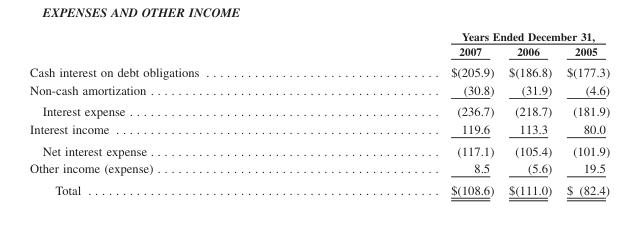table: (29, 29, 609, 196)
table column: (29, 29, 324, 196), (324, 29, 500, 196), (500, 29, 558, 196), (558, 29, 609, 196)
table column header: (29, 29, 609, 61)
table row: (29, 80, 609, 100), (29, 100, 609, 120), (29, 139, 609, 159), (29, 61, 609, 80), (29, 120, 609, 139), (29, 159, 609, 178), (29, 43, 609, 61), (29, 178, 609, 196), (29, 29, 609, 43)
table spanning cell: (324, 29, 609, 43)
